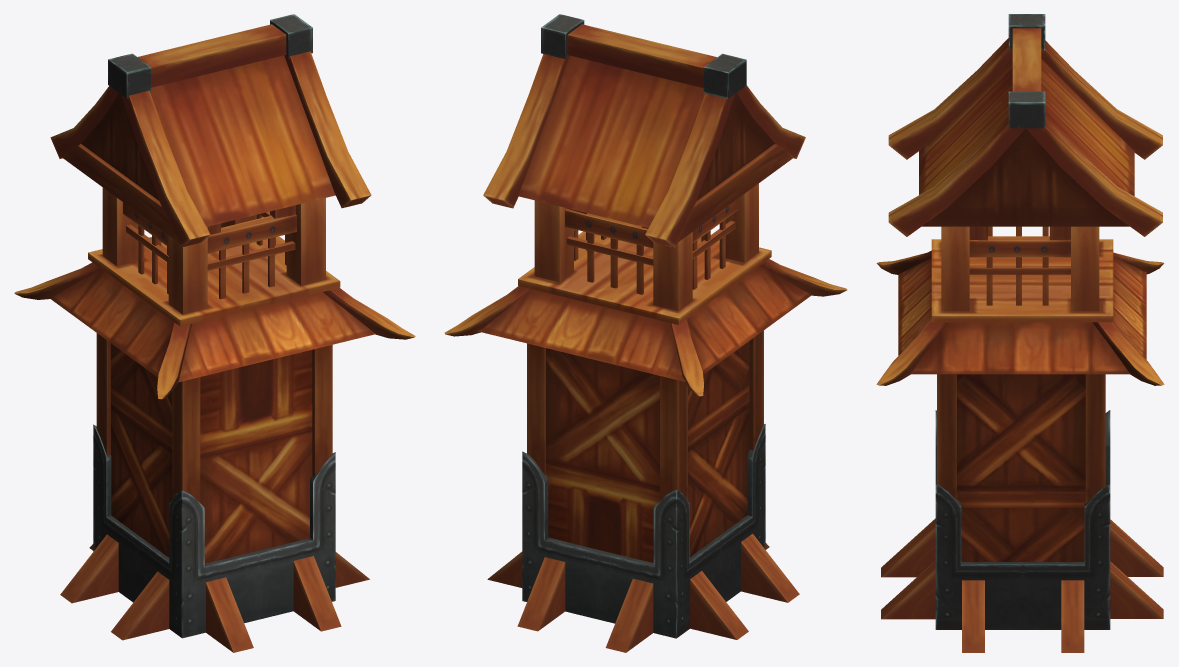
The model's file is Stage_ShaMo_TaLou02.FBX.
The picture shows the model from 3 angles, left to right: view 1: azimuth 30°, elevation 25°; view 2: azimuth 150°, elevation 25°; view 3: azimuth 270°, elevation 25°; orthographic projection. The views are drawn at different scales.
Visible parts, largest first — view 1: Stage_ShaMo_TaLou02; view 2: Stage_ShaMo_TaLou02; view 3: Stage_ShaMo_TaLou02.
Part boxes in pixels (x1,y1,x2,y2): Stage_ShaMo_TaLou02: [14, 14, 415, 652]; Stage_ShaMo_TaLou02: [444, 14, 847, 652]; Stage_ShaMo_TaLou02: [876, 14, 1164, 652].
Size of the model in its own units: 391 by 786 by 385.
